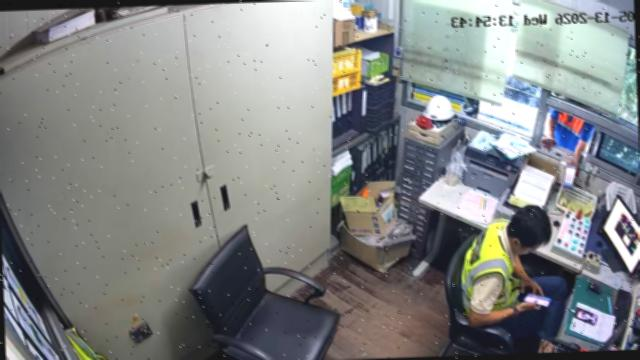Head: (504, 206, 552, 254)
People: (460, 206, 568, 352)
Phone: (573, 307, 598, 324), (522, 295, 551, 306)
